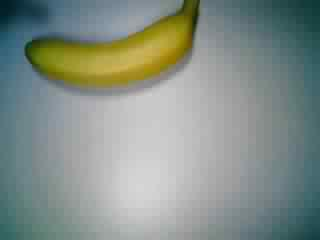banana: (21, 1, 204, 93)
